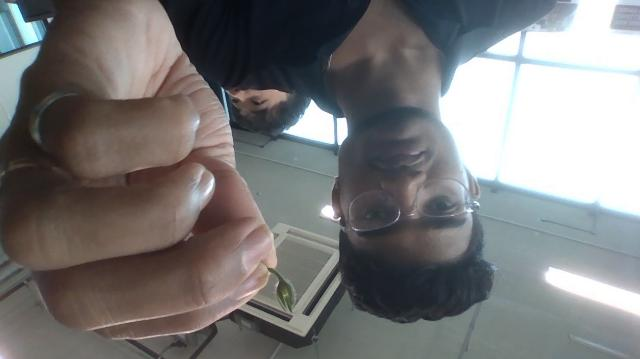Fruit Bud: (275, 279, 295, 313), (278, 280, 295, 308)
